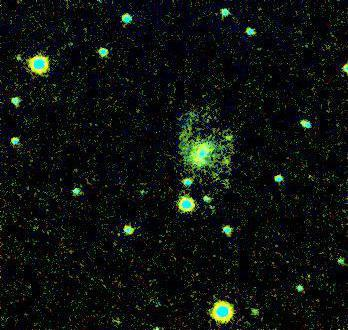star: (211, 125, 241, 155)
